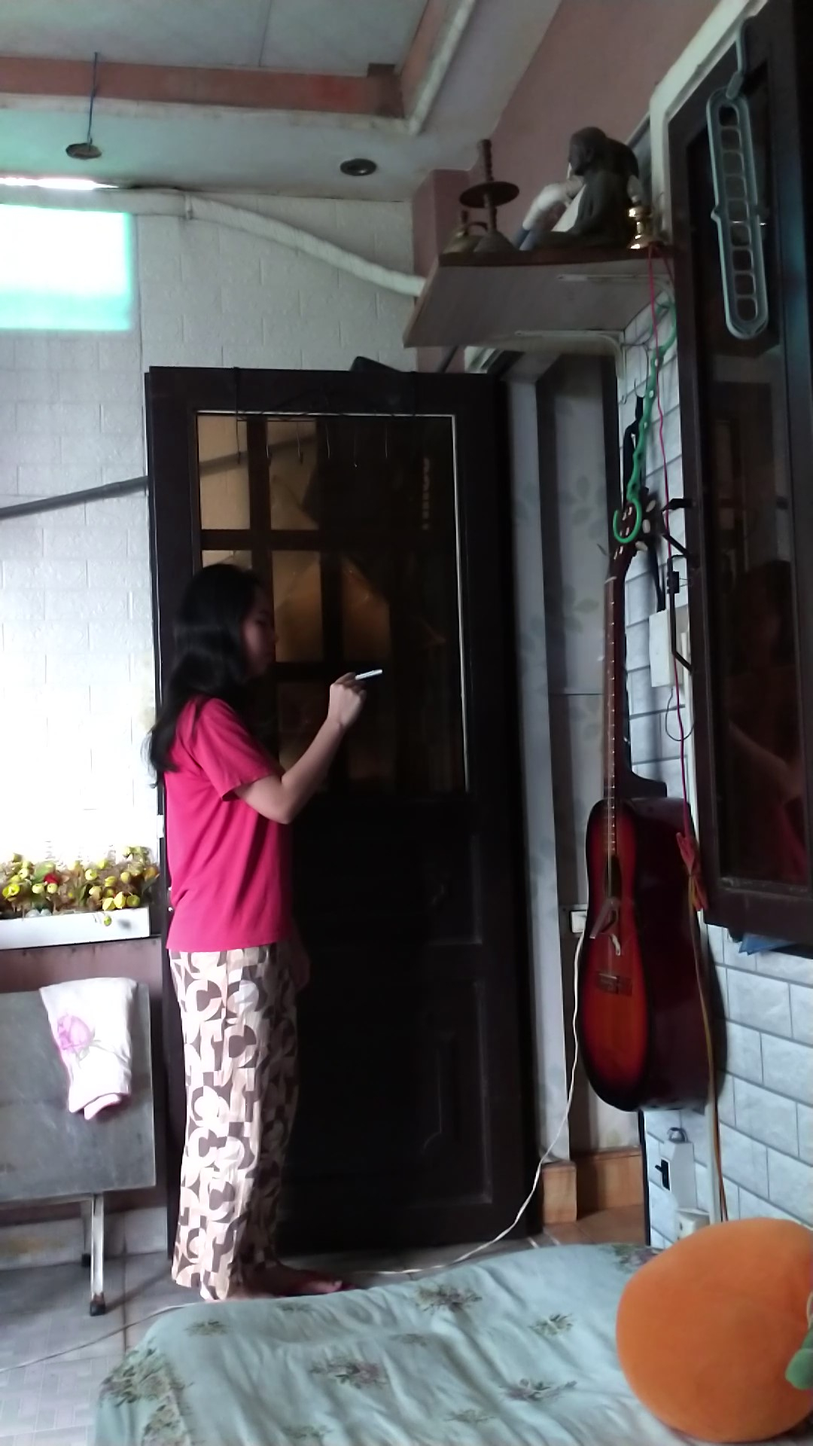cigarette: (355, 666, 385, 682)
person: (152, 529, 381, 1316)
